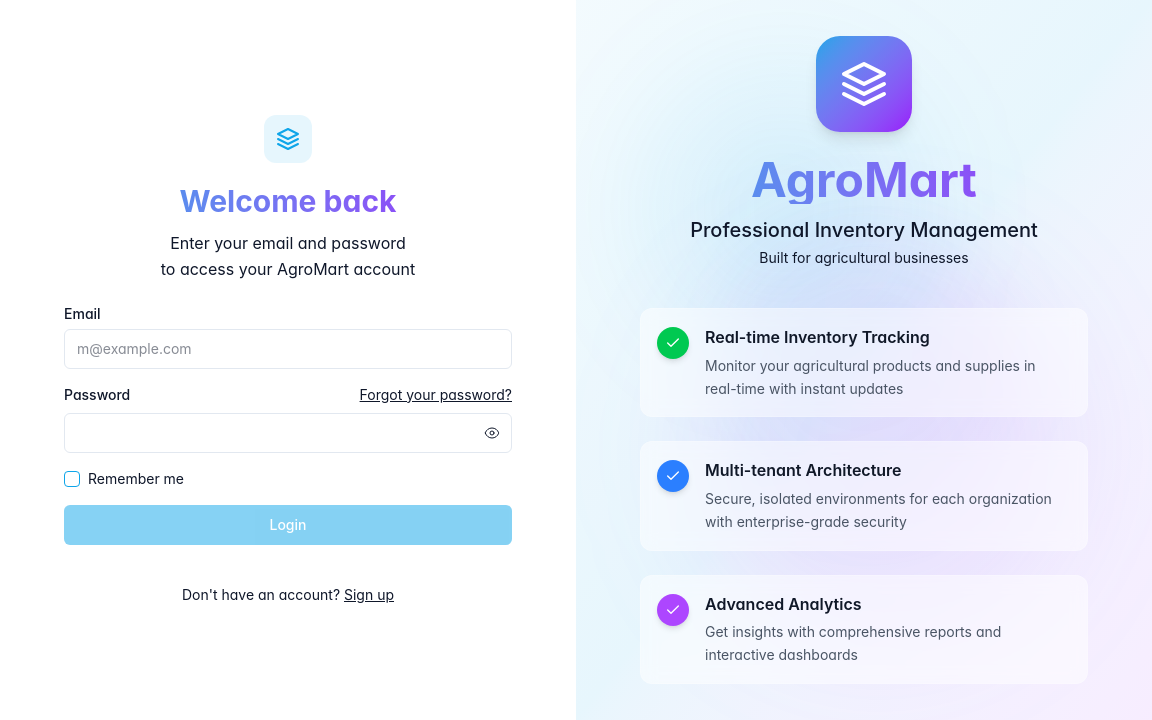
Test: Login Page › is accessible
Type "test@example.com" into the field labelled "Email" at (288, 349), box left=64, top=329, right=512, bottom=369
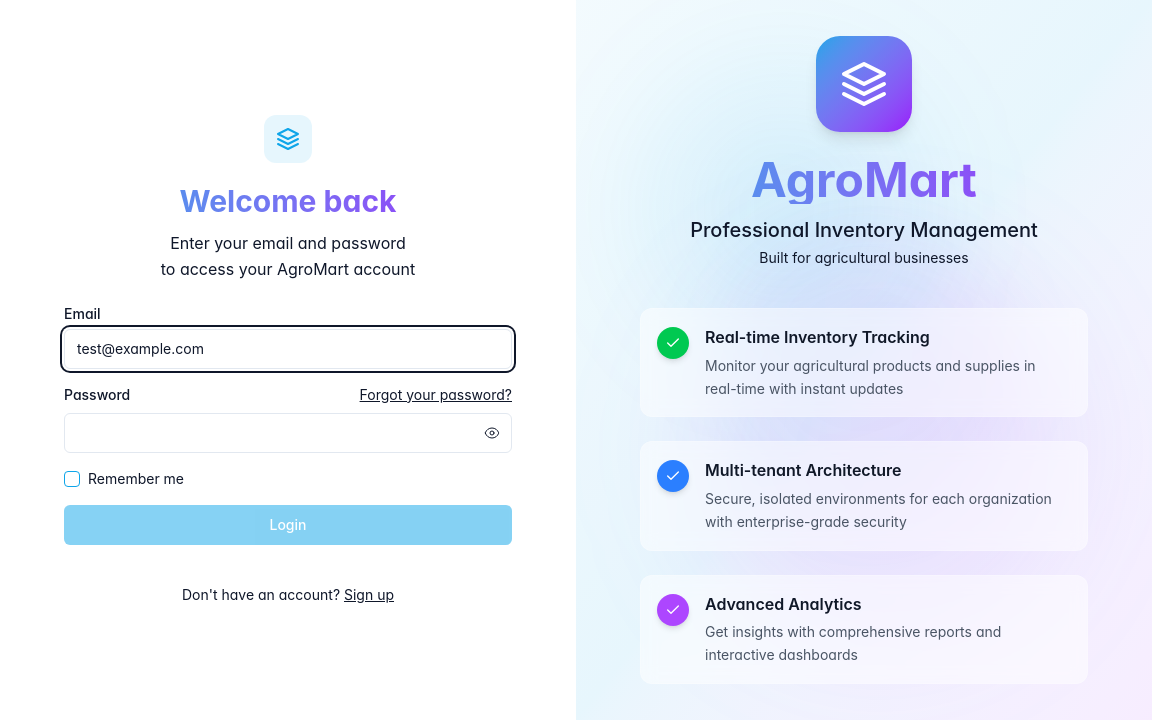
Type "password123" into the password field labelled "Password" at (288, 433), box left=64, top=413, right=512, bottom=453
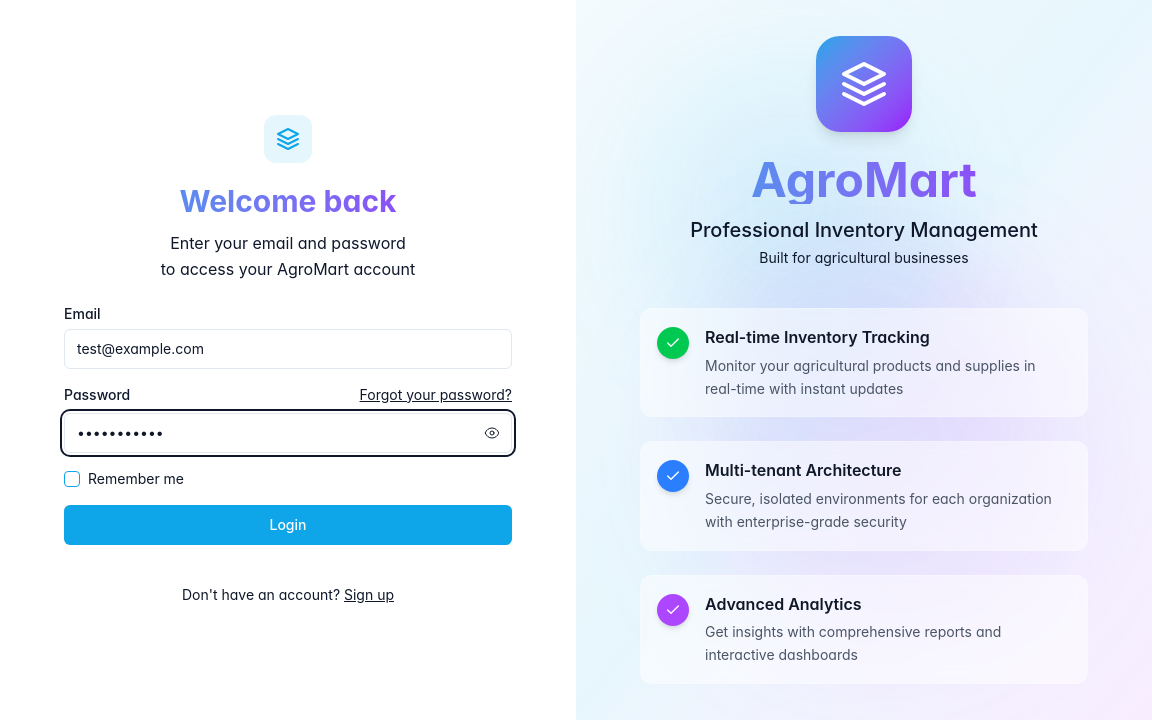
Now the button "Login" is enabled, box left=64, top=505, right=512, bottom=545
